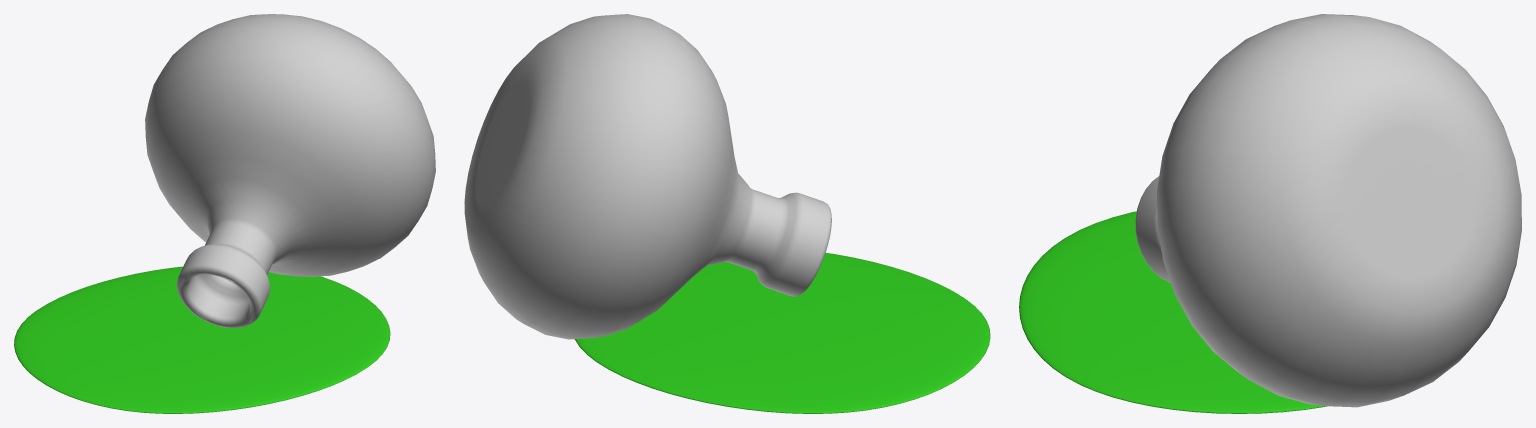
The model's file is taoreta_poison.obj.
The picture shows the model from 3 angles, left to right: view 1: azimuth 30°, elevation 25°; view 2: azimuth 150°, elevation 25°; view 3: azimuth 270°, elevation 25°; orthographic projection. The views are drawn at different scales.
Visible parts, largest first — view 1: Sphere, 立方体; view 2: Sphere, 立方体; view 3: Sphere, 立方体.
Boxes of the visible parts, <box> form: Sphere: <box>145,14,435,328</box>; 立方体: <box>14,266,390,413</box>; Sphere: <box>464,14,831,339</box>; 立方体: <box>575,253,990,413</box>; Sphere: <box>1135,14,1521,407</box>; 立方体: <box>1019,211,1326,413</box>.
Bounding box in the file's own units: 8.81 × 5.64 × 7.18.
